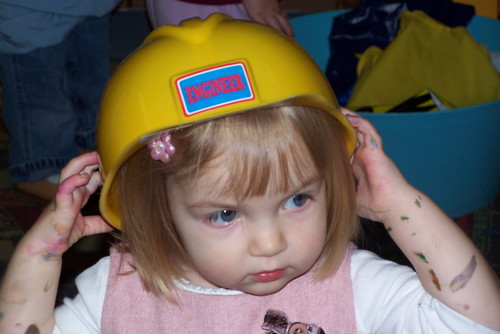person hardhat: (18, 17, 500, 334)
